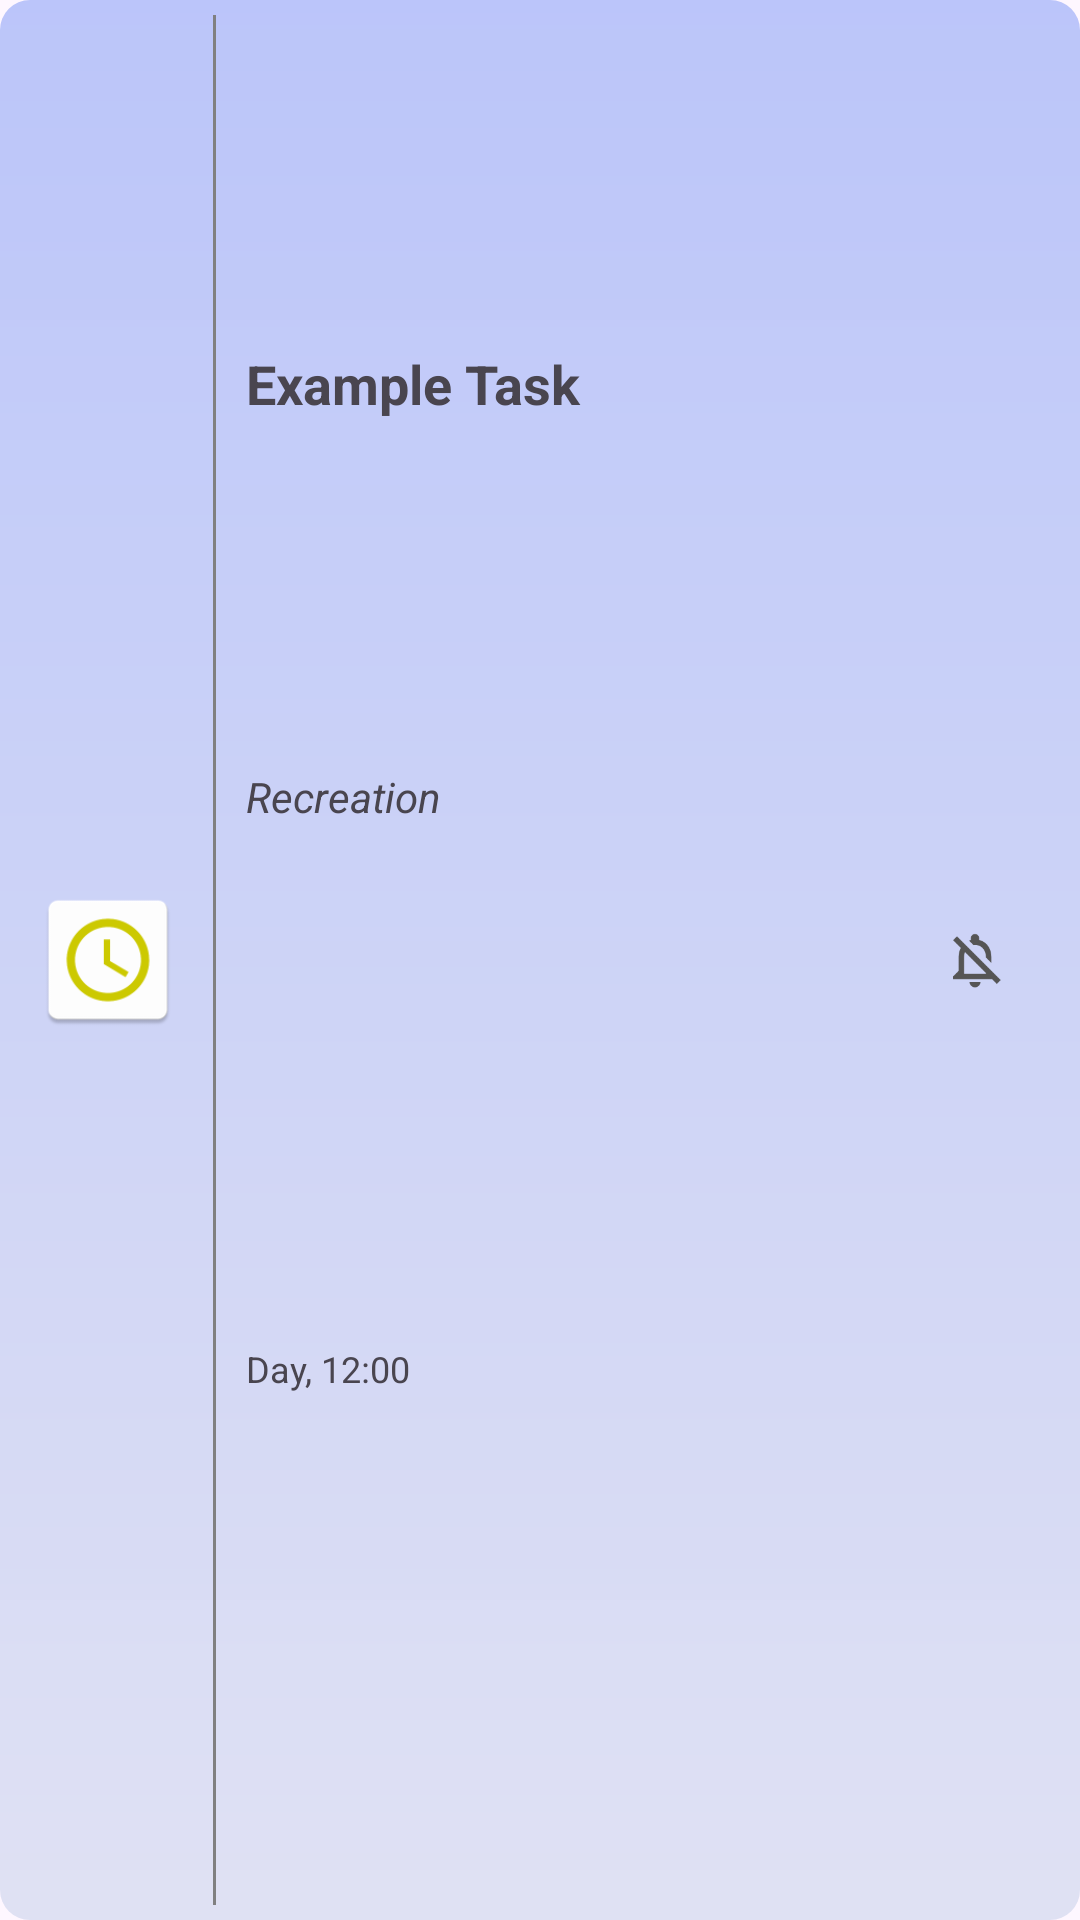

Screen size 1080×1920. Icon name, then its box in pixels as (x1, y1, x2, y2):
incomplete: (49, 901, 168, 1023)
notifications off: (953, 934, 1001, 988)
